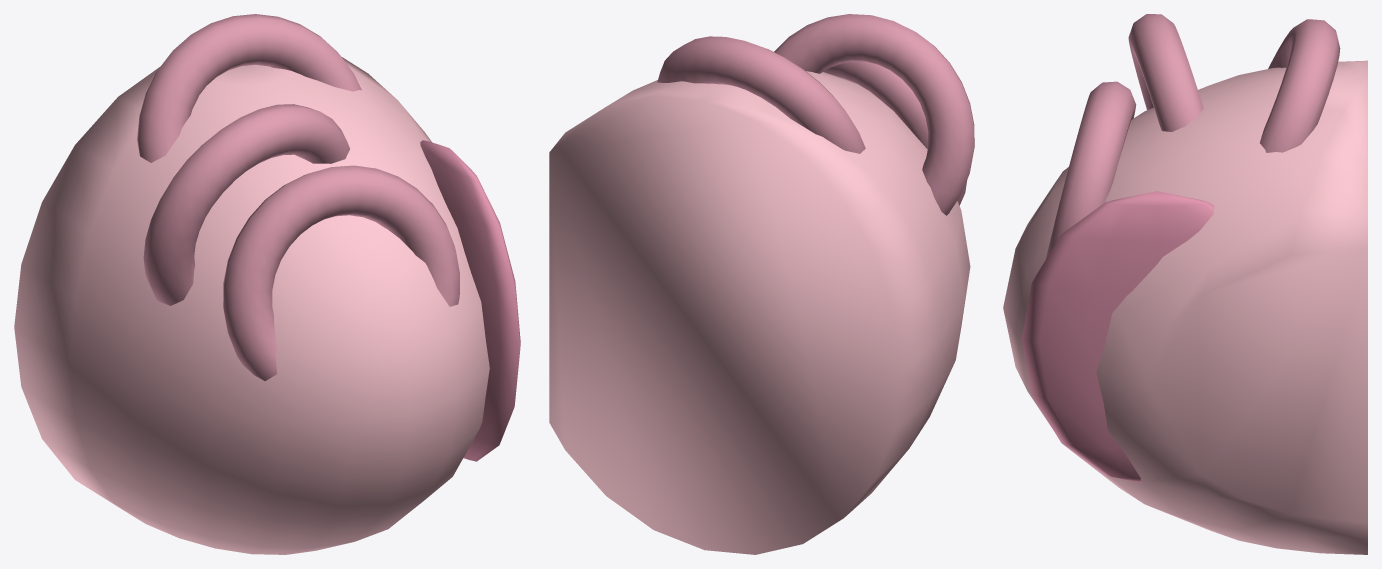
Rendered from chunk42.glb.
The picture shows the model from 3 angles, left to right: view 1: azimuth 30°, elevation 25°; view 2: azimuth 150°, elevation 25°; view 3: azimuth 270°, elevation 25°; orthographic projection. The views are drawn at different scales.
Parts seen in each view (by area): view 1: brain, fold, flesh; view 2: brain, fold; view 3: brain, flesh, fold.
Part boxes in pixels (x1,y1,x2,y2): brain: [14, 57, 489, 554]; fold: [137, 14, 459, 380]; flesh: [420, 140, 520, 461]; brain: [549, 71, 970, 554]; fold: [657, 14, 974, 215]; brain: [1003, 60, 1367, 554]; flesh: [1021, 191, 1214, 482]; fold: [1046, 14, 1340, 258].
Bounding box in the file's own units: 0.9145 × 1.22 × 0.806.
